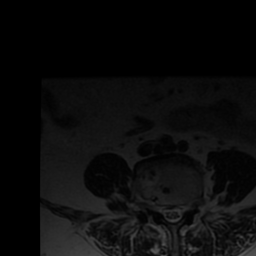CCS_normal: (169, 198, 176, 230)
LFS_normal: (184, 195, 192, 221)
LLS_normal: (176, 197, 184, 226)
RFS_normal: (152, 193, 160, 220)
RLS_normal: (160, 197, 169, 225)
